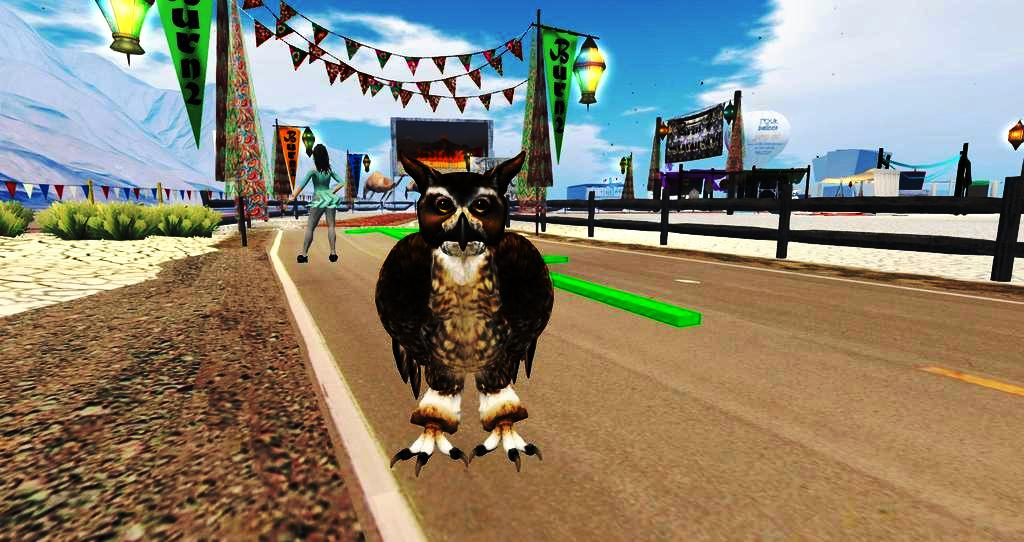Owl: (370, 150, 558, 480)
